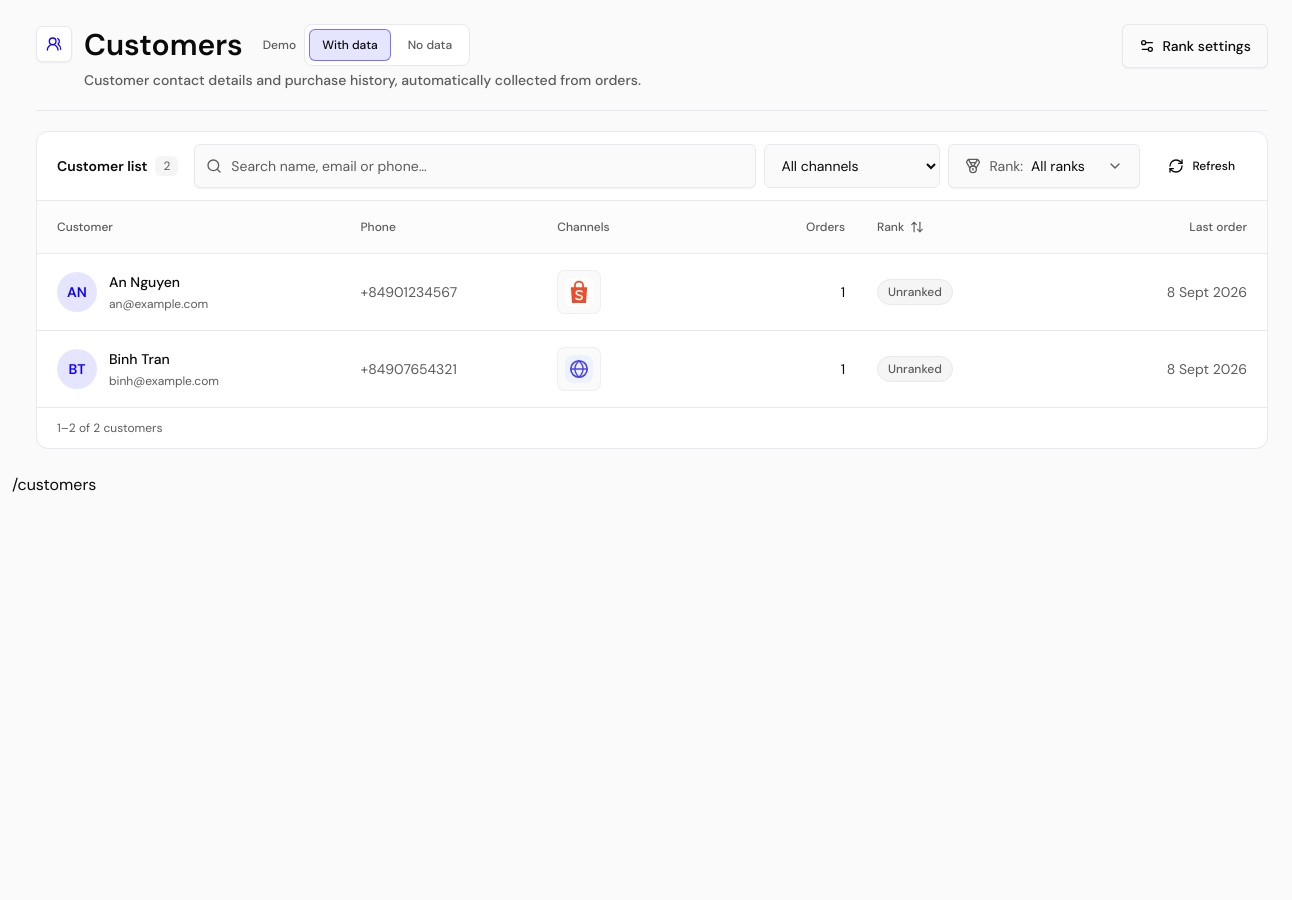
Test: simplified Customers page › opens the customer from cell 0, including cell whitespace, and shows their avatar
Click the cell "AN An Nguyen an@example.com" at [191, 292], box [37, 254, 344, 330]
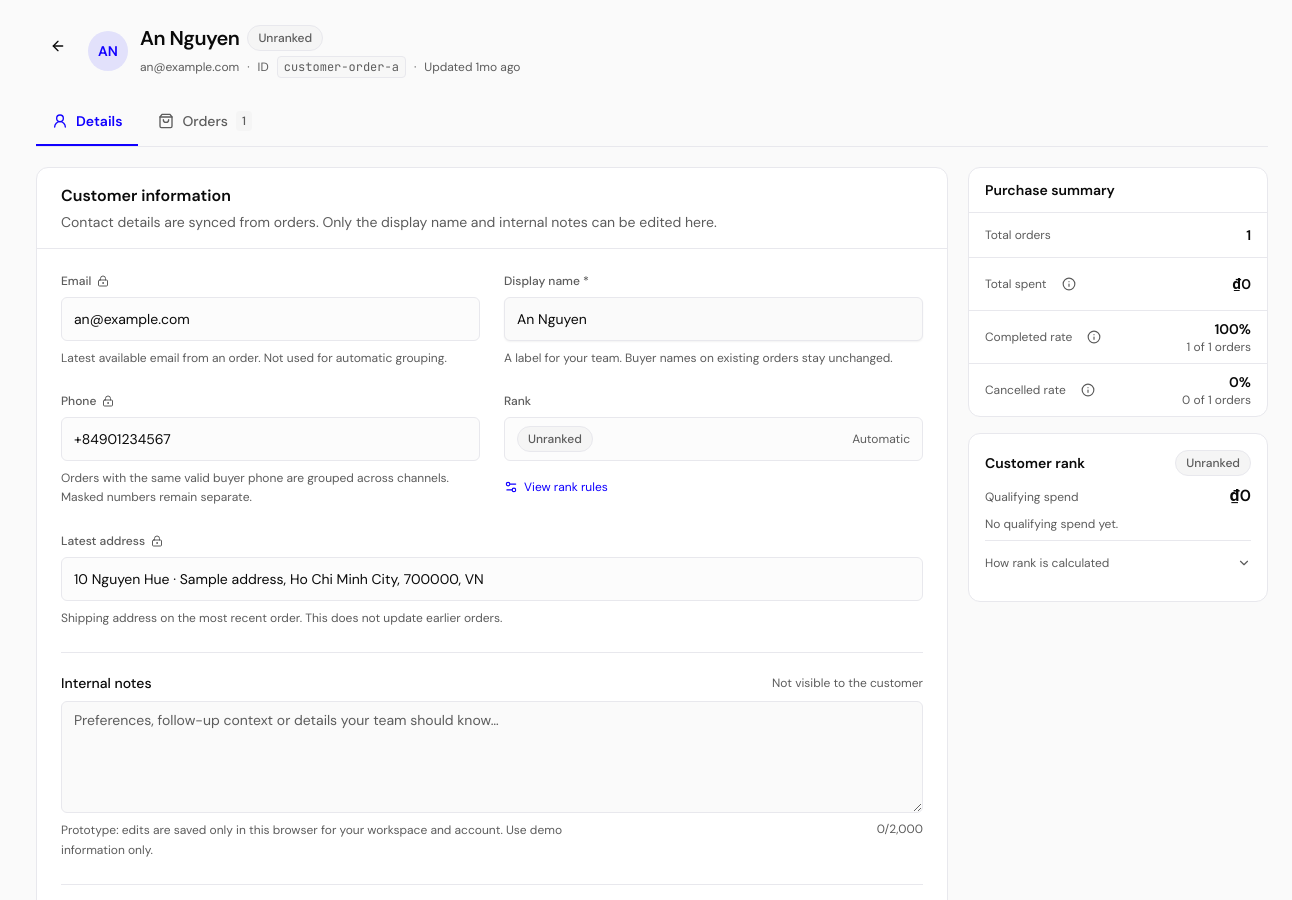
Expected: the text "an@example.com" is shown, [140, 59, 239, 75]
Click the button named "Back to customers" at [58, 46], box [36, 24, 80, 68]
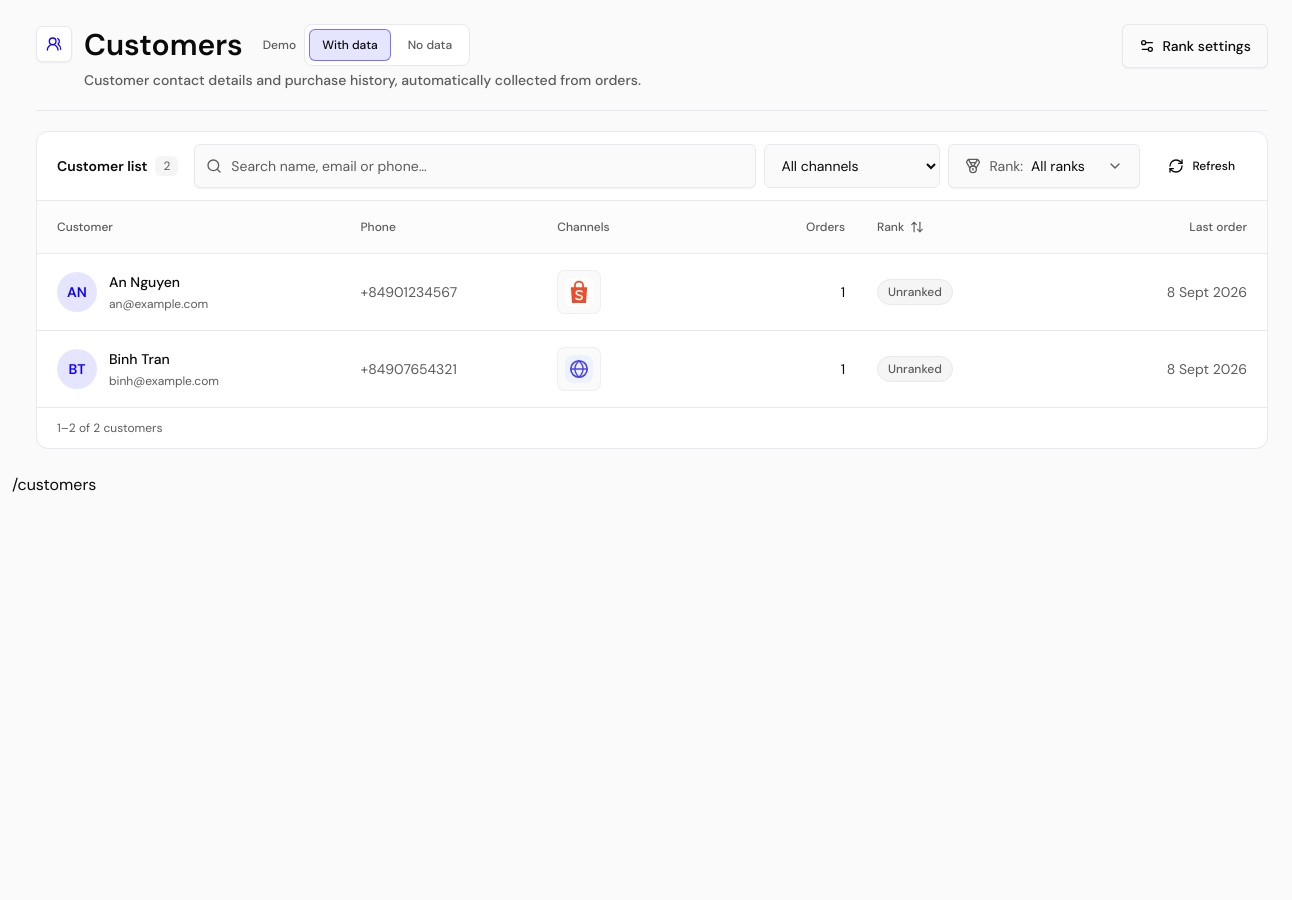
Expected: the table is shown, [37, 201, 1267, 407]
